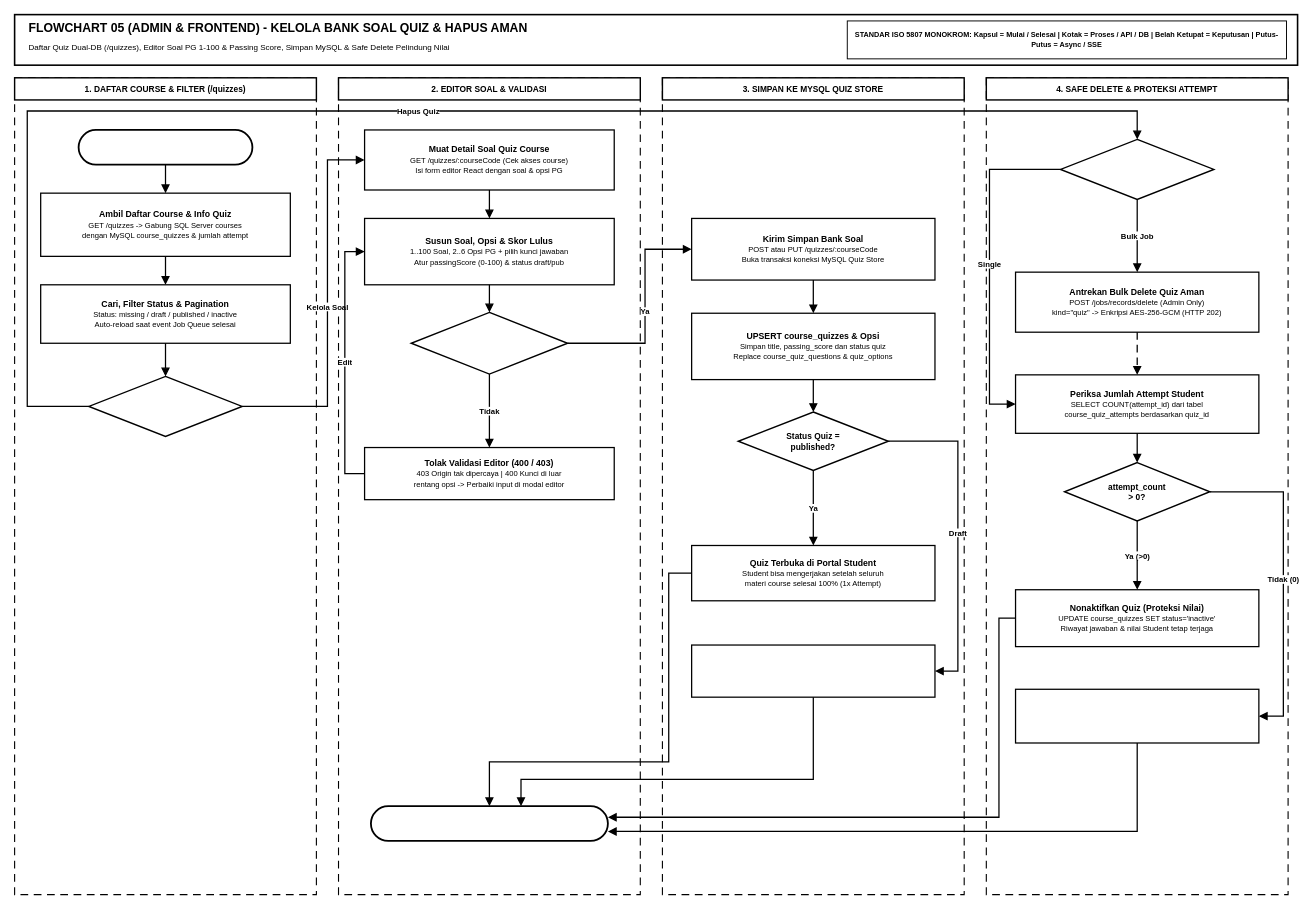
Image size: 1312x909. Some labels were removed from this diagram. The shapes that lost their labels are listed below. From the top down, each one's centre as x and y in pixels, then its label:
point 165,147: BUKA HALAMAN QUIZ
point 1136,169: Single Delete atau Bulk Admin Job?
point 489,342: Origin + Schema Valid & Kunci OK?
point 165,406: Aksi Staf di Daftar Quiz?
point 813,670: Tersimpan Sebagai Draft Internal Belum ditampilkan kepada Student hingga rilis
point 1137,715: Hapus Permanen Bank Soal DELETE FROM course_quizzes (Cascade soal)
point 489,823: BANK SOAL QUIZ TERPERBARUI
